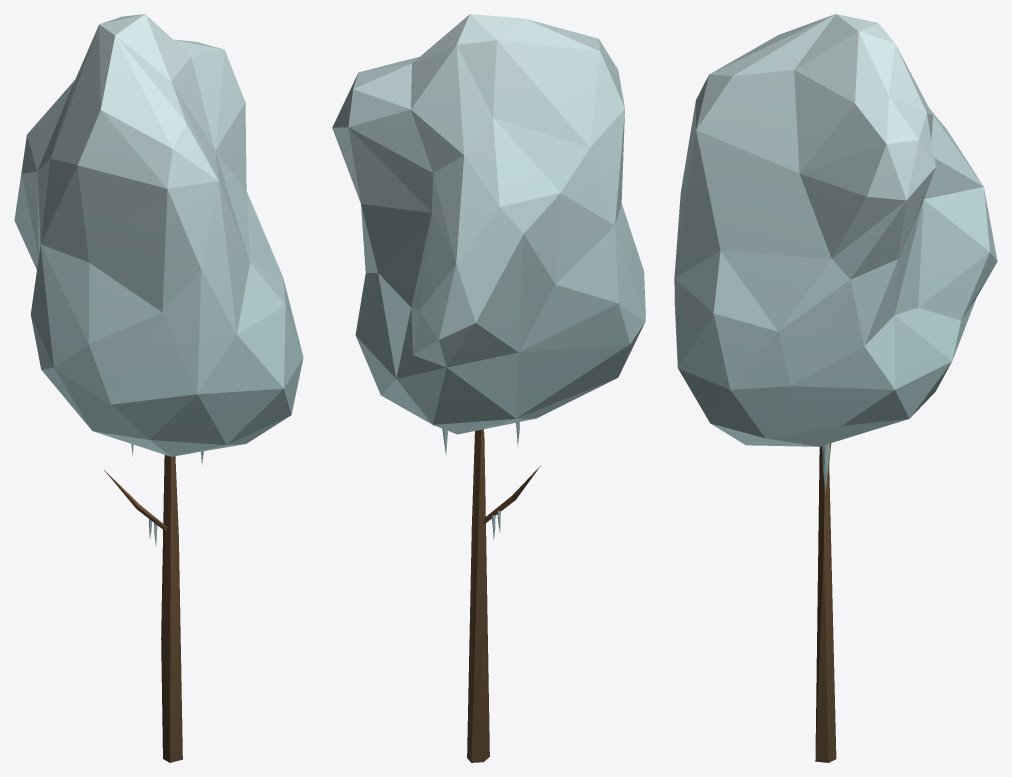
The model's file is Winter_Tree_09.glb.
3 views of the same model, side by side, from view 1: azimuth 30°, elevation 25°; view 2: azimuth 150°, elevation 25°; view 3: azimuth 270°, elevation 25° (orthographic). The views are drawn at different scales.
Parts seen in each view (by area): view 1: Winter_Tree_09_LOD0; view 2: Winter_Tree_09_LOD0; view 3: Winter_Tree_09_LOD0.
Boxes of the visible parts, box(x1,y1,x2,y2) form: Winter_Tree_09_LOD0: box(14, 14, 303, 762); Winter_Tree_09_LOD0: box(332, 14, 645, 762); Winter_Tree_09_LOD0: box(674, 14, 997, 762).
Size of what is drawn, in the model's own units: 1.2 by 3.53 by 1.43.
1 material, 1 textured.
